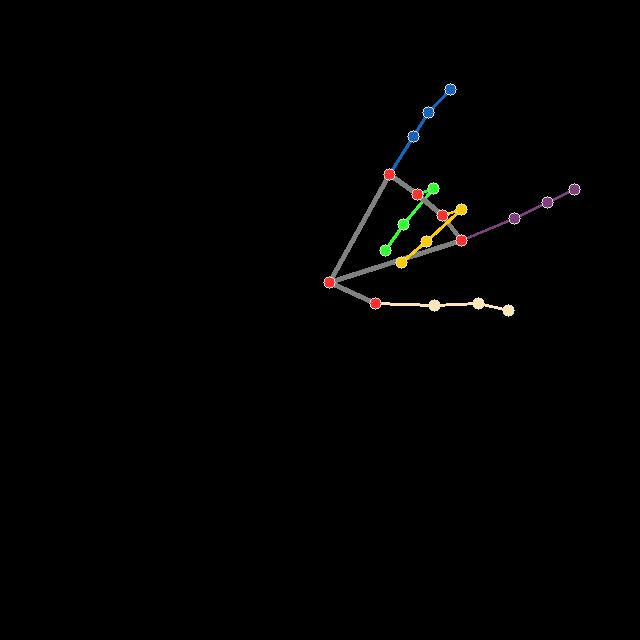spiderman: (323, 80, 579, 315)
